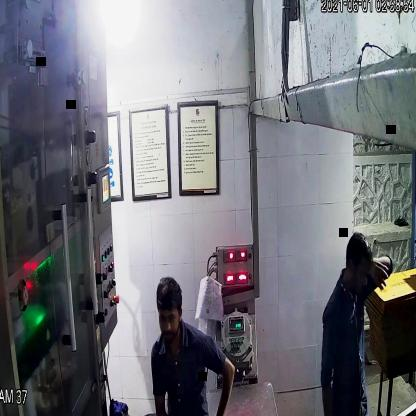no_goggles: (154, 305, 183, 328)
